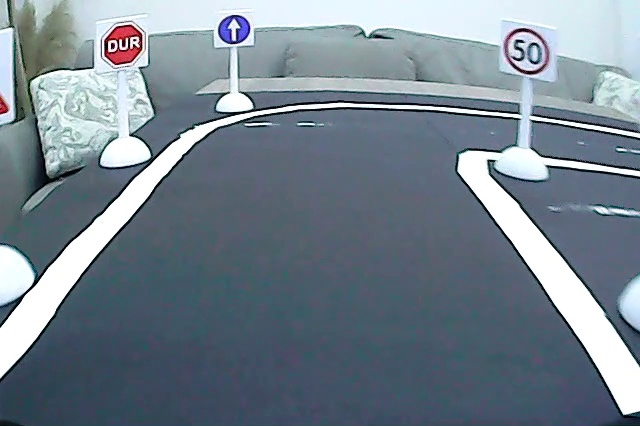speed limit 50: (501, 25, 552, 78)
stop sign: (98, 20, 148, 71)
